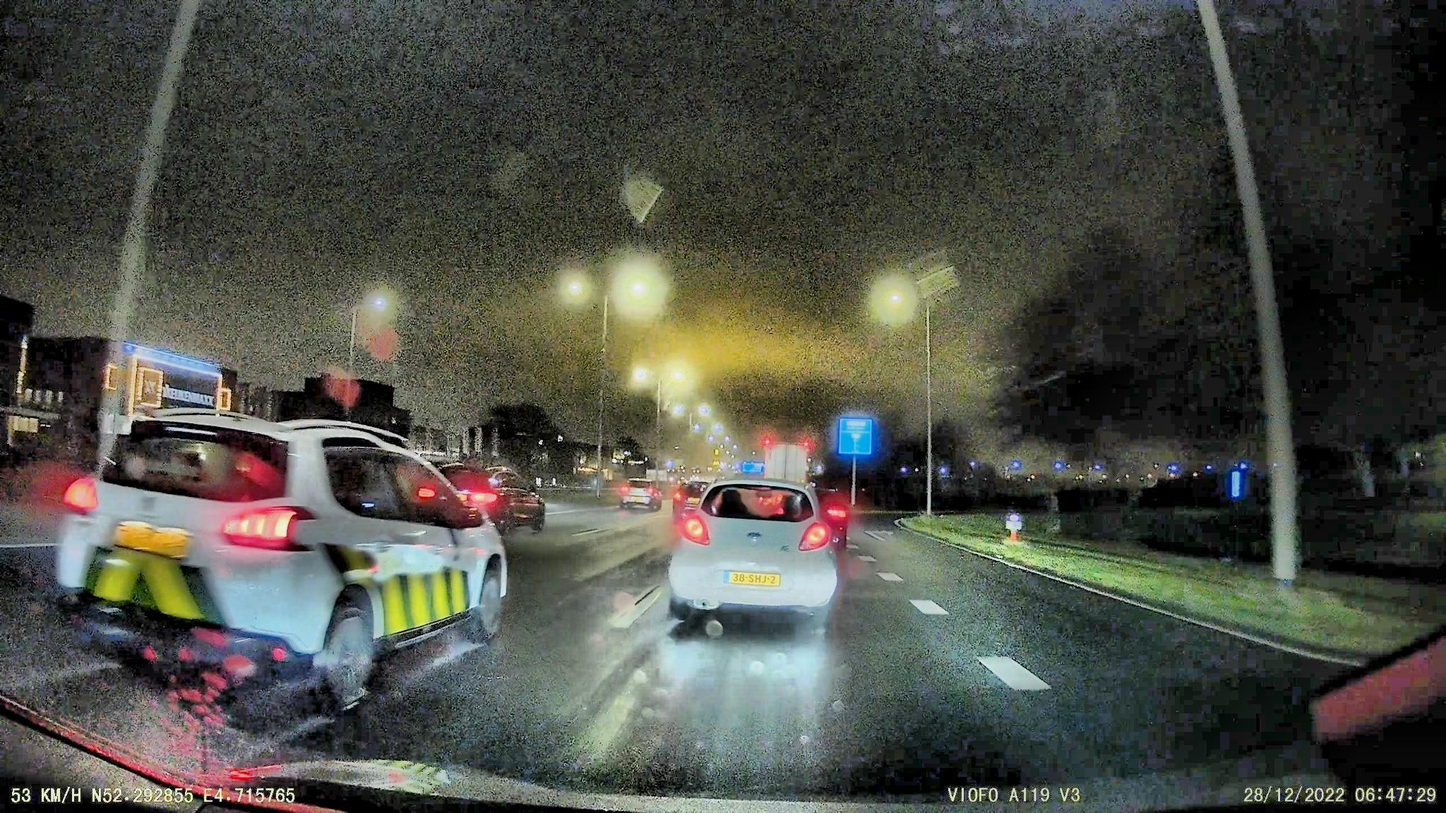Roads: (258, 506, 1347, 813)
